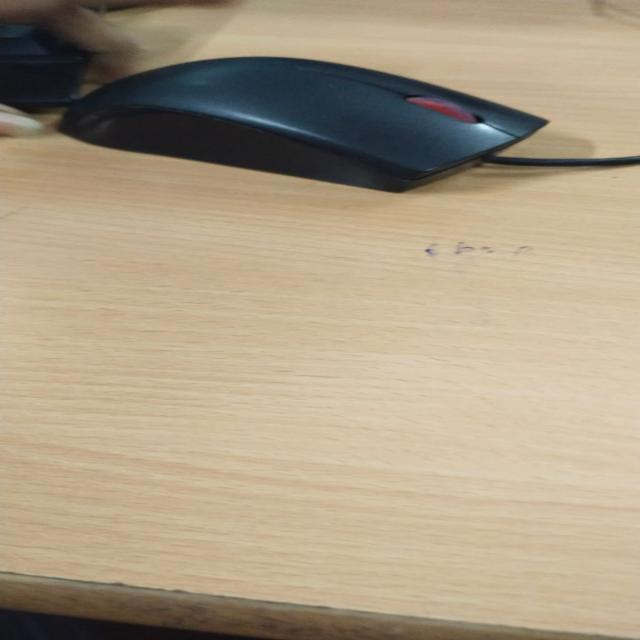mouse: (81, 52, 532, 200)
